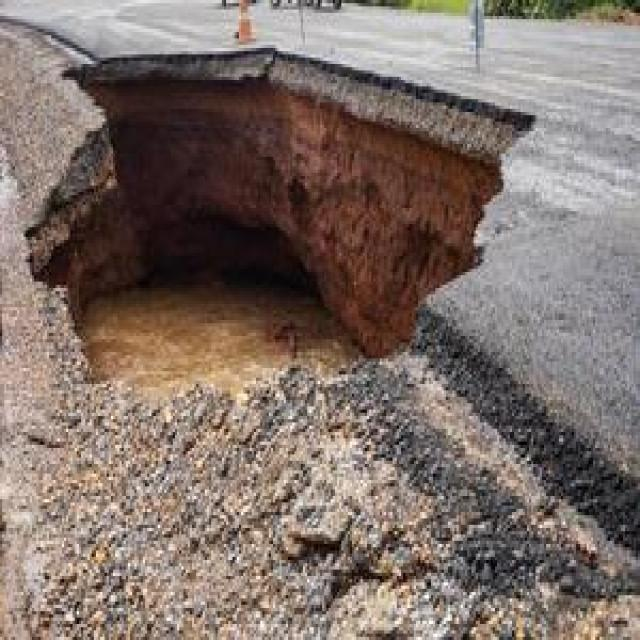road collapse: (36, 0, 591, 554)
